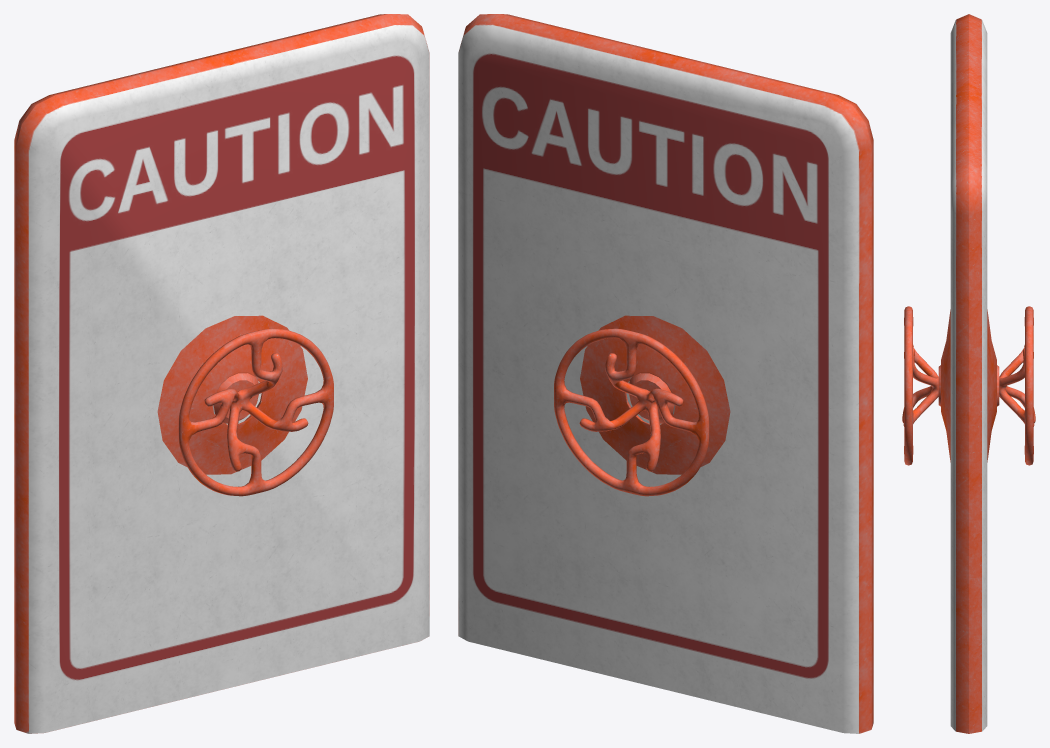
File: door.fbx
The picture shows the model from 3 angles, left to right: view 1: azimuth 30°, elevation 25°; view 2: azimuth 150°, elevation 25°; view 3: azimuth 270°, elevation 25°; orthographic projection. The views are drawn at different scales.
Visible parts, largest first — view 1: Object071.001; view 2: Object071.001; view 3: Object071.001.
Part boxes in pixels (x1=…): Object071.001: x1=14, y1=14, x2=429, y2=733; Object071.001: x1=458, y1=14, x2=873, y2=733; Object071.001: x1=902, y1=14, x2=1035, y2=733.
Bounding box in the file's own units: 200 × 291 × 63.54.
1 material, 1 textured.
